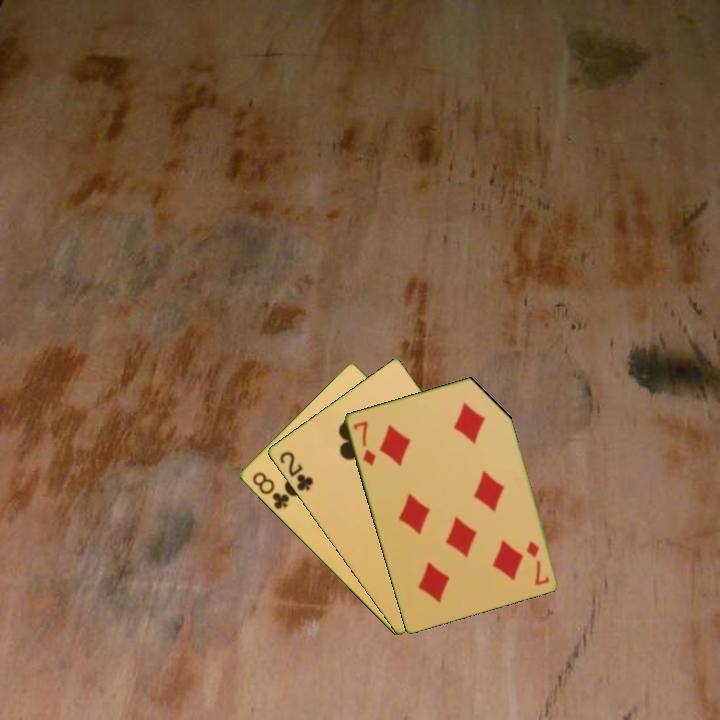2c: (276, 447, 316, 494)
7d: (522, 537, 552, 588), (349, 417, 378, 469)
8c: (248, 468, 292, 512)
